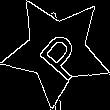P_NW: (26, 20, 87, 81)
